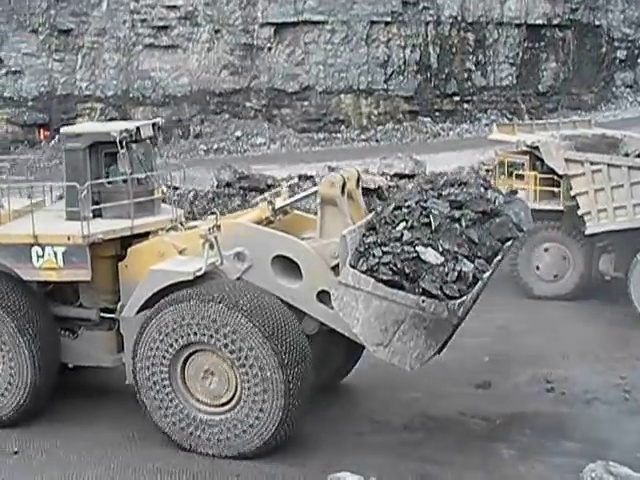dumper: (484, 116, 640, 305)
wheel loader: (1, 116, 525, 461)
